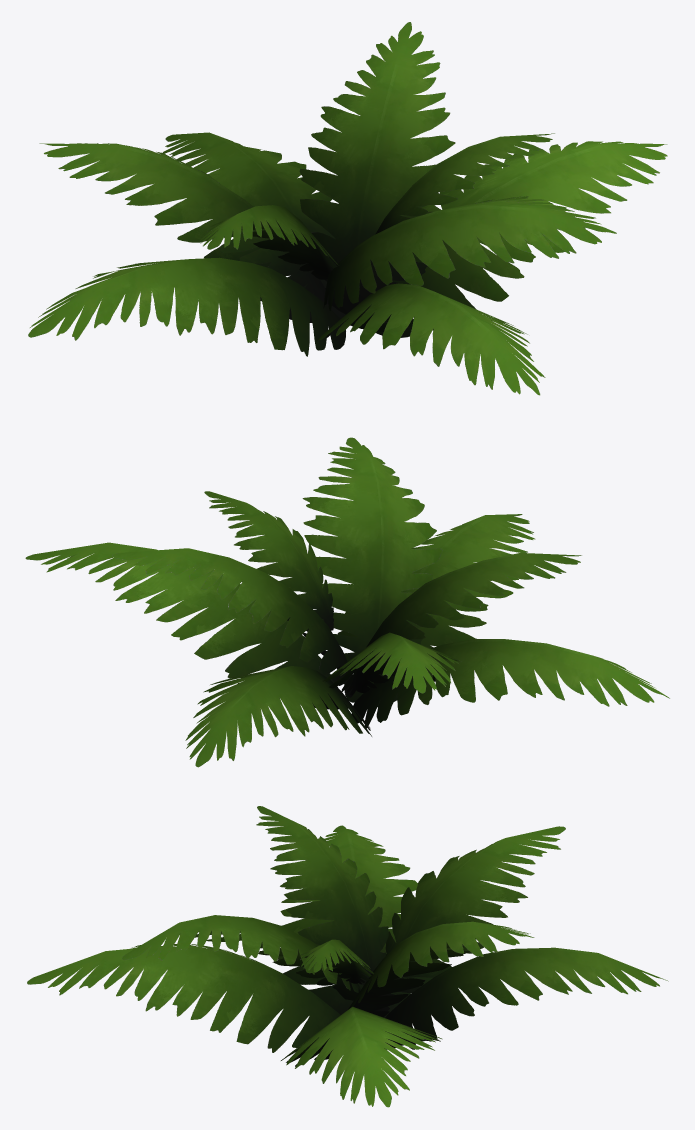
The model's file is Fern_1.glb.
The picture shows the model from 3 angles, top to bottom: view 1: azimuth 30°, elevation 25°; view 2: azimuth 150°, elevation 25°; view 3: azimuth 270°, elevation 25°; orthographic projection. The views are drawn at different scales.
Parts seen in each view (by area): view 1: Fern_1; view 2: Fern_1; view 3: Fern_1.
Boxes of the visible parts, box(x1,y1,x2,y2) form: Fern_1: box(28, 22, 667, 395); Fern_1: box(25, 437, 669, 767); Fern_1: box(27, 806, 668, 1107).
Bounding box in the file's own units: 2.83 × 0.8402 × 2.65.
Materials: 1 (1 with a texture image).
